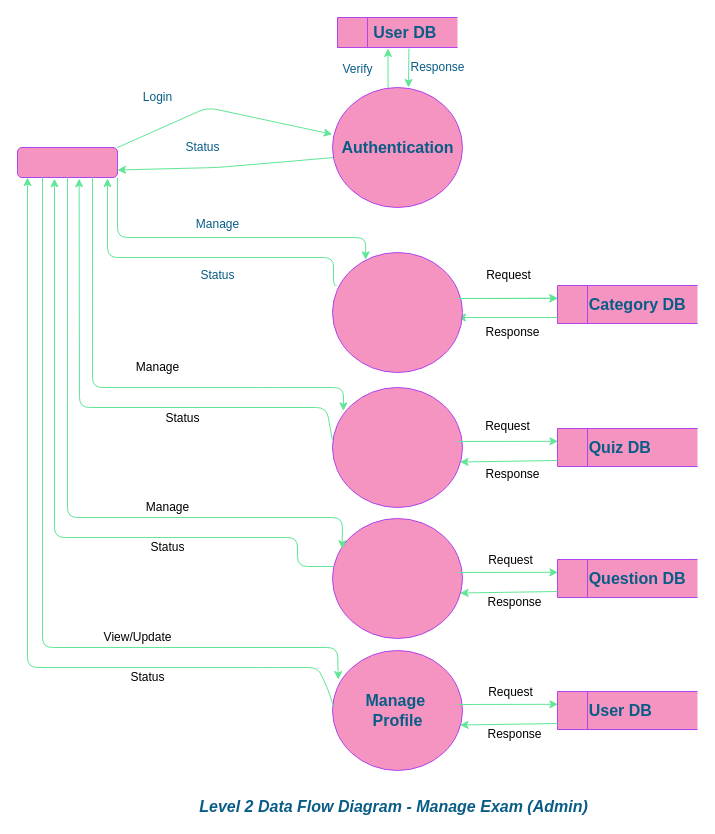
Some shapes in this 715 by 834 pixel diagram are drawn without their labels. The shapes that lost their labels are listed below. From the top down, each one's centre as x and y in pixels, then its label:
At (x=67, y=162): "Admin".
At (x=397, y=312): "Manage Category".
At (x=397, y=447): "Manage Quiz".
At (x=397, y=578): "Manage Question".
